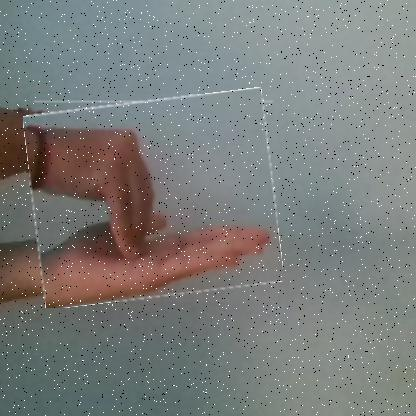Z: (29, 94, 279, 303)
